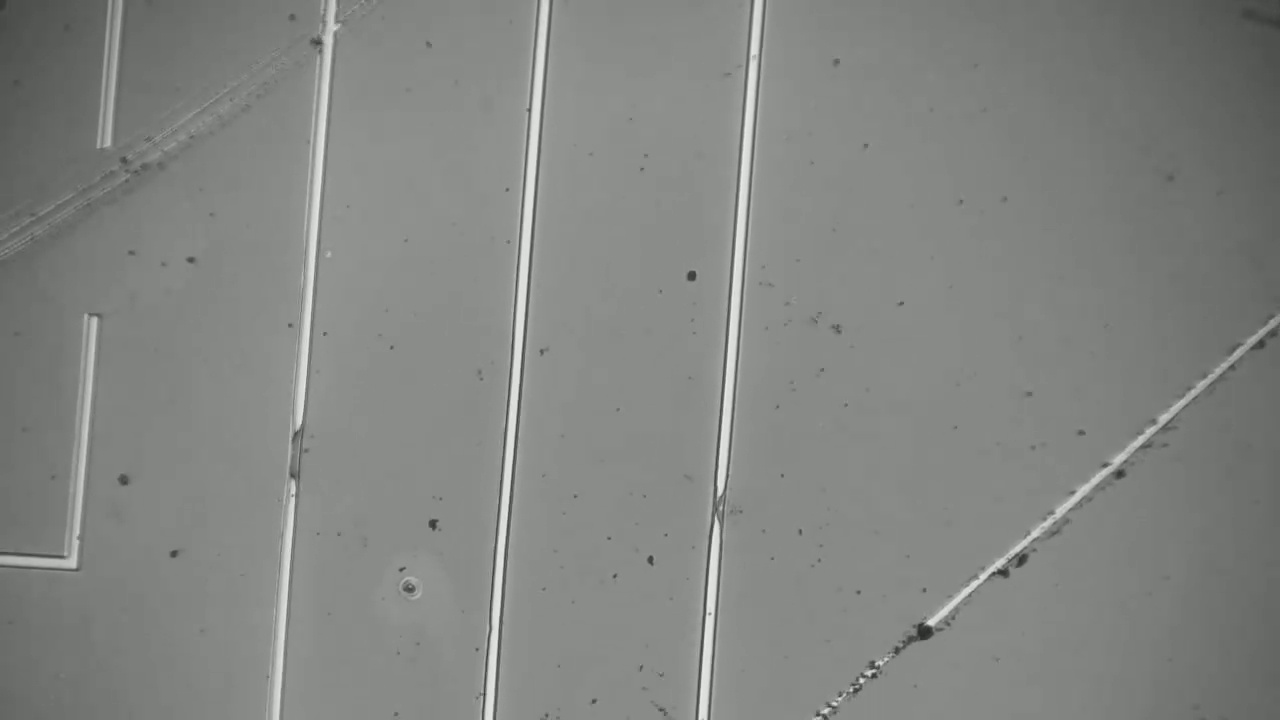gray_line: (261, 409, 320, 500), (695, 469, 734, 541)
open: (44, 95, 146, 367)
scratch: (805, 298, 1279, 713), (0, 5, 385, 293)
